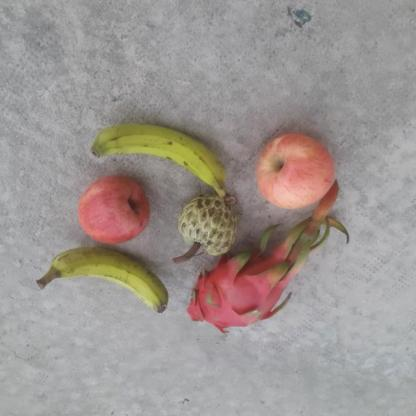annona: (180, 193, 238, 256)
apple: (256, 129, 340, 210), (77, 172, 150, 247)
banana: (91, 123, 241, 205), (36, 244, 174, 320)
pitaya: (192, 254, 284, 335)
